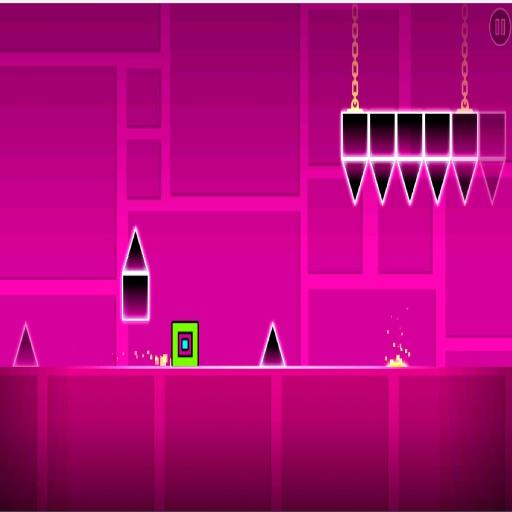block: (340, 112, 506, 160), (119, 275, 151, 324)
player: (171, 322, 198, 365)
spike: (13, 322, 39, 366), (260, 322, 285, 366), (425, 160, 449, 203), (124, 228, 147, 272), (398, 160, 421, 204), (343, 161, 367, 203), (370, 160, 393, 203), (452, 160, 475, 203), (481, 160, 504, 202)
